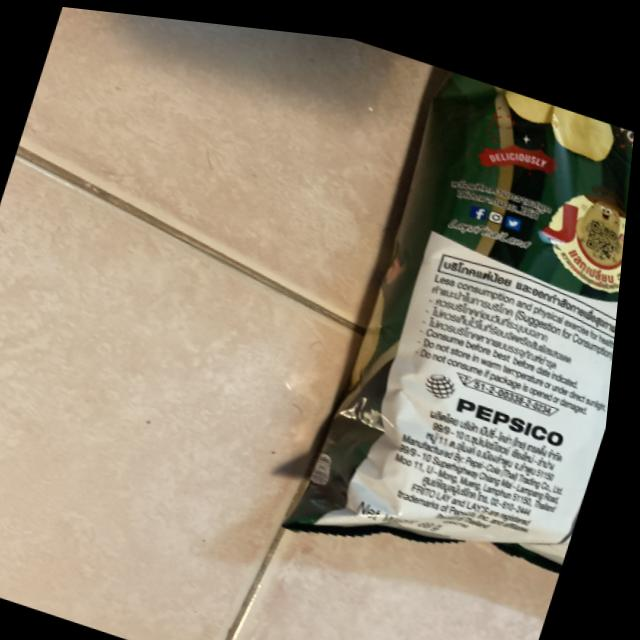Laygreen: (244, 34, 639, 640)
